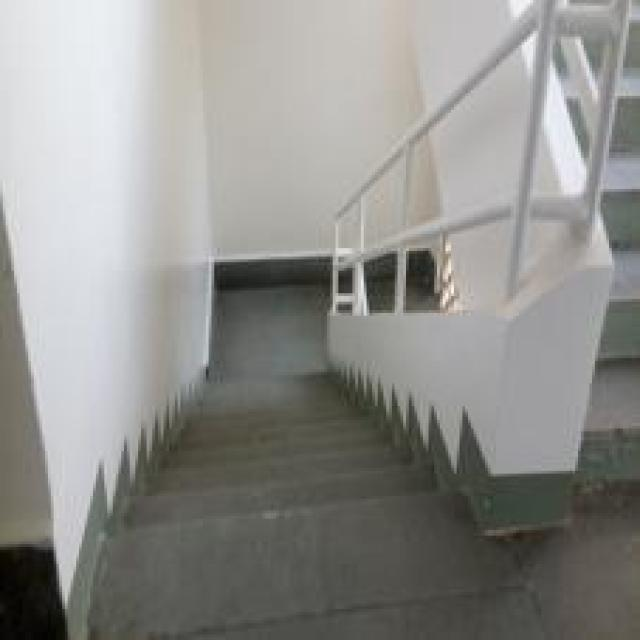downstair: (119, 407, 424, 545)
